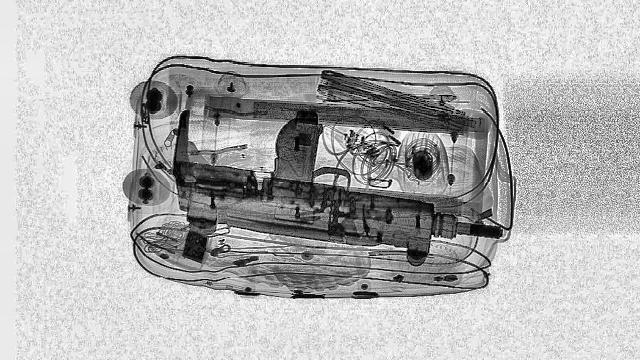Gun: (167, 109, 508, 266)
